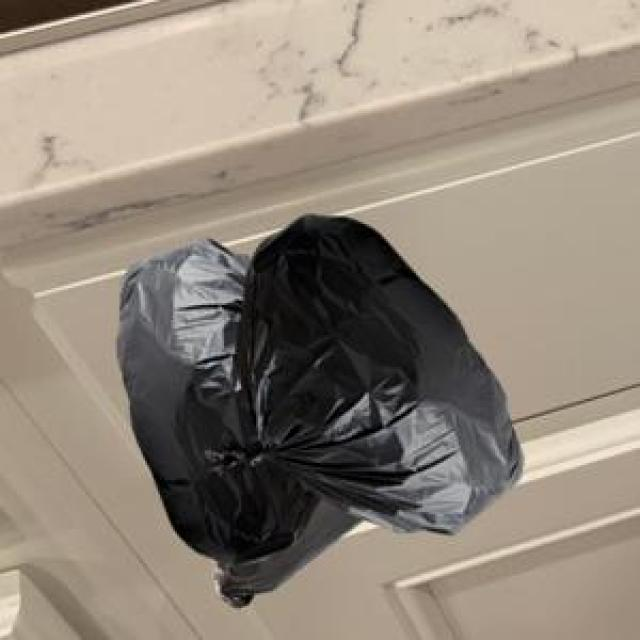Trashbag: (237, 208, 532, 540), (115, 239, 318, 565)
